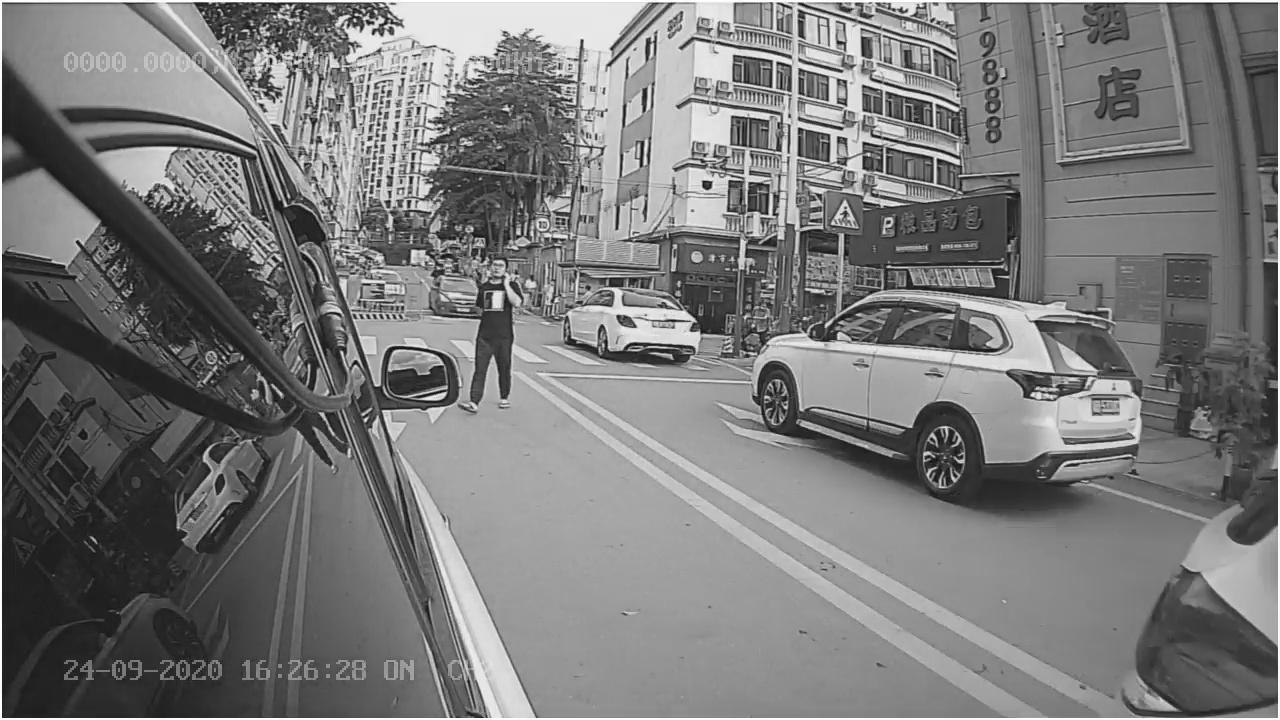person: (455, 248, 538, 416)
